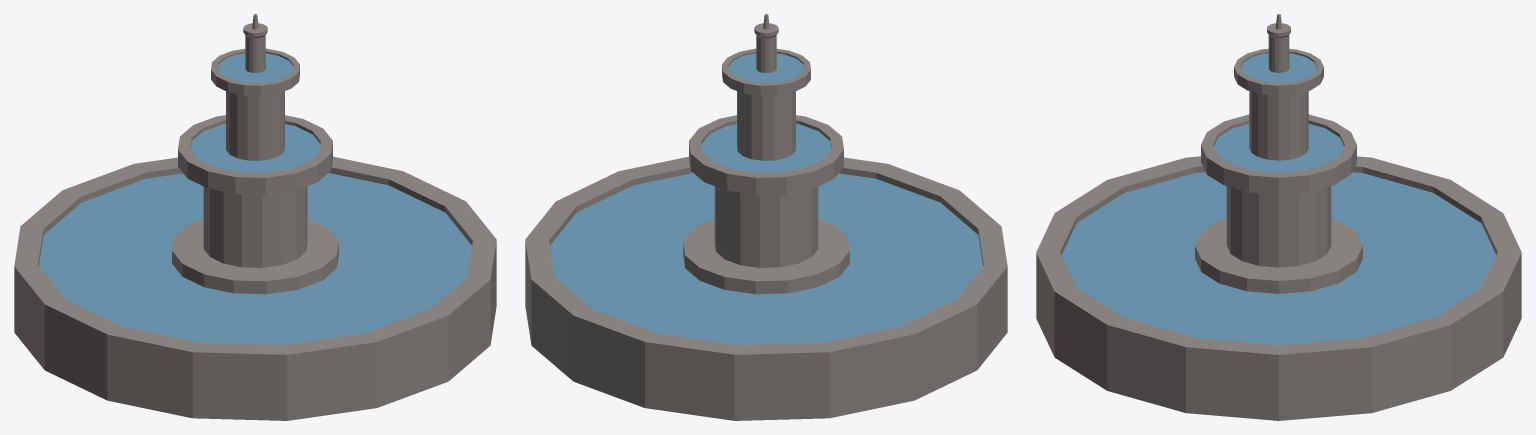
The model's file is Fountain_011.fbx.
The picture shows the model from 3 angles, left to right: view 1: azimuth 30°, elevation 25°; view 2: azimuth 150°, elevation 25°; view 3: azimuth 270°, elevation 25°; orthographic projection.
Parts seen in each view (by area): view 1: Fountain_01; view 2: Fountain_01; view 3: Fountain_01.
Boxes of the visible parts, x1=… form: Fountain_01: x1=14, y1=14, x2=496, y2=420; Fountain_01: x1=525, y1=14, x2=1007, y2=420; Fountain_01: x1=1036, y1=14, x2=1521, y2=420.
Size of the model in its own units: 595 by 411 by 595.
